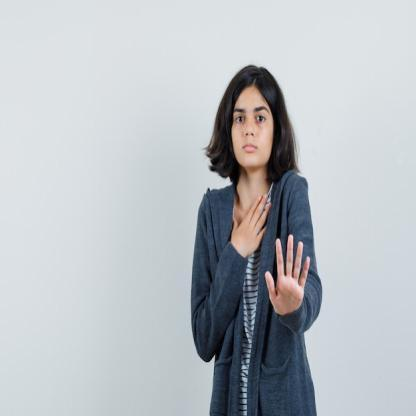stop: (264, 234, 312, 320)
